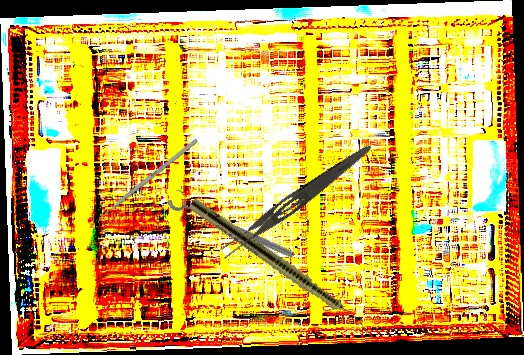Dressing Forceps: (214, 136, 376, 264)
Fixation Ring: (164, 185, 300, 263)
Handpiece: (186, 197, 377, 337)
Pusher: (89, 137, 199, 228)
